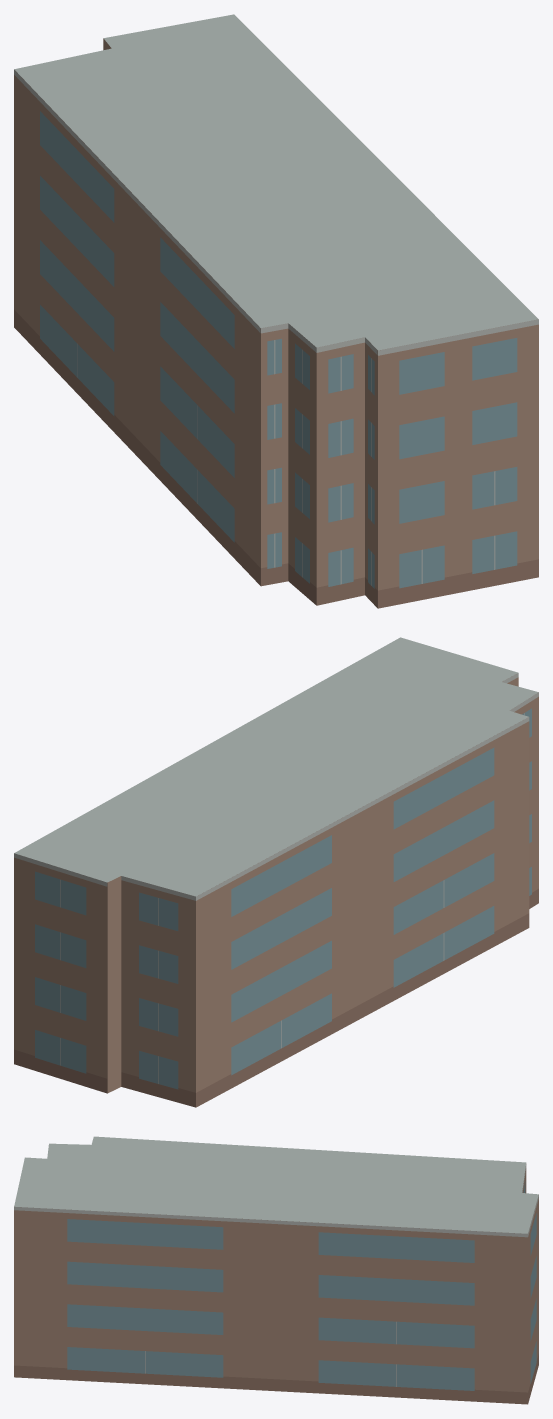
The model's file is survey-upis-32978347.glb.
3 views of the same model, one above another, from view 1: azimuth 30°, elevation 25°; view 2: azimuth 150°, elevation 25°; view 3: azimuth 270°, elevation 25° (orthographic). The views are drawn at different scales.
Visible parts, largest first — view 1: survey-upis-32978347.tmp; view 2: survey-upis-32978347.tmp; view 3: survey-upis-32978347.tmp.
Part boxes in pixels (x1=…): survey-upis-32978347.tmp: x1=14, y1=14, x2=538, y2=608; survey-upis-32978347.tmp: x1=14, y1=637, x2=538, y2=1107; survey-upis-32978347.tmp: x1=14, y1=1136, x2=538, y2=1404.
Size of the model in its own units: 14.57 by 11.9 by 33.19.
